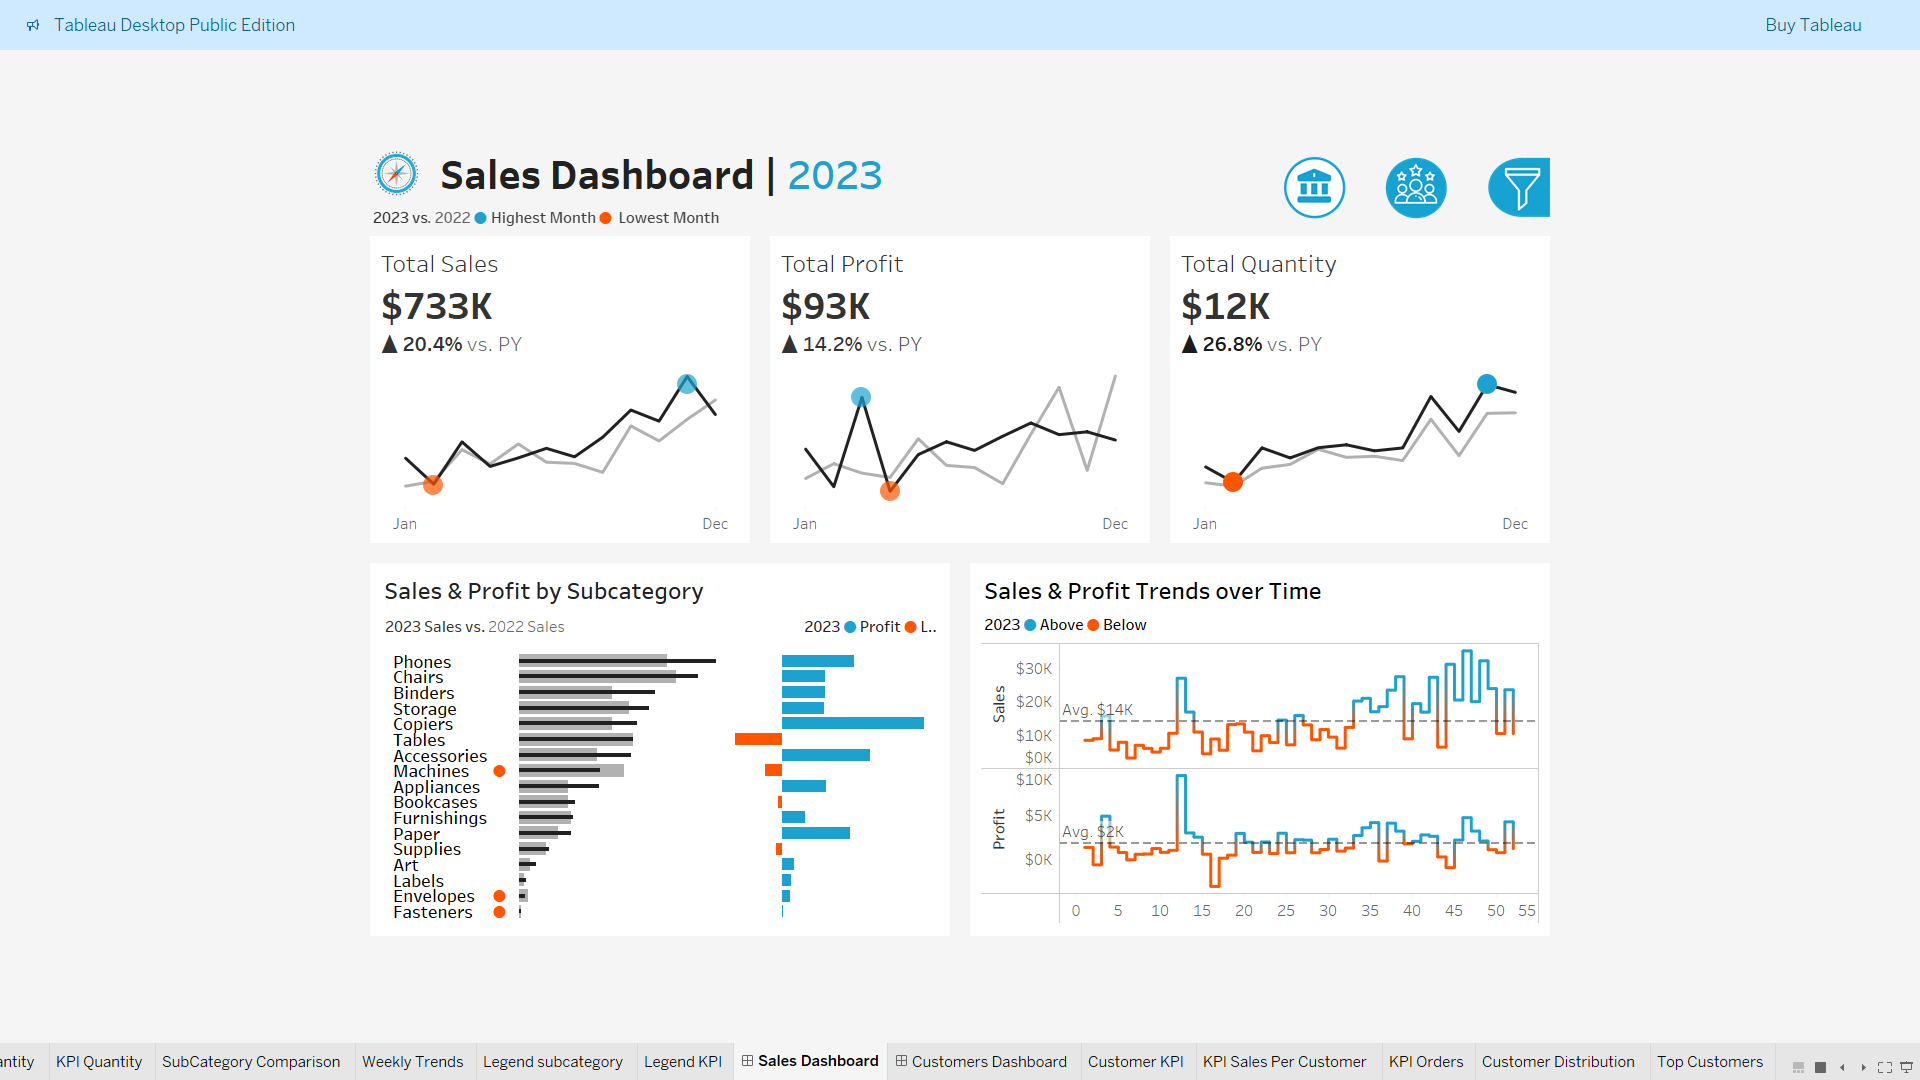

The page's visual inventory and layout, read from the dashboard file:
{"tool":"tableau","page":{"name":"Sales Dashboard","canvas":[1200,800],"ordinal":1},"visuals":[{"type":"image","param":"Image/Icon - Logo.png","box":[0,0,73,54]},{"type":"text","box":[73,0,1127,54]},{"type":"dashboard-object","box":[903,6,102,71]},{"type":"dashboard-object","box":[1005,6,102,71]},{"type":"blank","box":[933,11,256,55]},{"type":"worksheet","title":"Legend KPI","mark":"Automatic","box":[0,54,1200,36]},{"type":"text","box":[933,66,256,50]},{"type":"worksheet","title":"KPI sales","mark":"Automatic","rows":["Calculation_488922049706860548"],"cols":["Order Date"],"box":[0,90,400,317]},{"type":"worksheet","title":"KPI Profit","mark":"Automatic","rows":["Calculation_780811600617312263"],"cols":["Order Date"],"box":[400,90,400,317]},{"type":"worksheet","title":"KPI Quantity","mark":"Automatic","rows":["Calculation_939282012752281600"],"cols":["Order Date"],"box":[800,90,400,317]},{"type":"parameter","param":"[Parameters].[Parameter 1]","box":[933,116,256,60]},{"type":"text","box":[933,176,256,33]},{"type":"filter","title":"KPI Quantity","param":"[federated.0l9y7bk0i0ggmk10stm3b1j6zwo9].[none:Category:nk]","box":[933,209,256,61]},{"type":"filter","title":"KPI Profit","param":"[federated.0l9y7bk0i0ggmk10stm3b1j6zwo9].[none:Sub-Category:nk]","box":[933,270,256,61]},{"type":"blank","box":[933,331,256,45]},{"type":"text","box":[933,376,256,33]},{"type":"filter","title":"KPI sales","param":"[federated.0l9y7bk0i0ggmk10stm3b1j6zwo9].[none:Region:nk]","box":[933,409,256,61]},{"type":"text","box":[17,424,566,40]},{"type":"text","box":[617,424,566,40]},{"type":"worksheet","title":"Legend subcategory","mark":"Automatic","box":[17,464,420,33]},{"type":"text","box":[437,464,146,33]},{"type":"text","box":[617,464,566,29]},{"type":"filter","title":"KPI sales","param":"[federated.0l9y7bk0i0ggmk10stm3b1j6zwo9].[none:State:nk]","box":[933,470,256,61]},{"type":"worksheet","title":"Weekly Trends","mark":"Automatic","rows":["Calculation_488922049698516992","Calculation_780811600612515844"],"cols":["Order Date"],"box":[617,493,566,290]},{"type":"worksheet","title":"SubCategory Comparison","mark":"Bar","rows":["Sub-Category","Calculation_1120551897856000000"],"cols":["CY sales (copy)_488922049698971649","Calculation_488922049698516992","Calculation_780811600612515844"],"box":[17,497,566,285.9]},{"type":"filter","title":"KPI sales","param":"[federated.0l9y7bk0i0ggmk10stm3b1j6zwo9].[none:City:nk]","box":[933,531,256,61]}]}

Visuals, with their boxes on the page's 1200x800 design canvas (x1, y1, x2, y2). These are canvas units, not pixel positions in the 1920x1080 screenshot, which may show the page scaled, cropped or inside an application window:
image: rect(0, 0, 73, 54)
text: rect(73, 0, 1200, 54)
dashboard-object: rect(903, 6, 1005, 77)
dashboard-object: rect(1005, 6, 1107, 77)
blank: rect(933, 11, 1189, 66)
"Legend KPI" worksheet: rect(0, 54, 1200, 90)
text: rect(933, 66, 1189, 116)
"KPI sales" worksheet: rect(0, 90, 400, 407)
"KPI Profit" worksheet: rect(400, 90, 800, 407)
"KPI Quantity" worksheet: rect(800, 90, 1200, 407)
parameter: rect(933, 116, 1189, 176)
text: rect(933, 176, 1189, 209)
"KPI Quantity" filter: rect(933, 209, 1189, 270)
"KPI Profit" filter: rect(933, 270, 1189, 331)
blank: rect(933, 331, 1189, 376)
text: rect(933, 376, 1189, 409)
"KPI sales" filter: rect(933, 409, 1189, 470)
text: rect(17, 424, 583, 464)
text: rect(617, 424, 1183, 464)
"Legend subcategory" worksheet: rect(17, 464, 437, 497)
text: rect(437, 464, 583, 497)
text: rect(617, 464, 1183, 493)
"KPI sales" filter: rect(933, 470, 1189, 531)
"Weekly Trends" worksheet: rect(617, 493, 1183, 783)
"SubCategory Comparison" worksheet (Bar marks): rect(17, 497, 583, 783)
"KPI sales" filter: rect(933, 531, 1189, 592)
